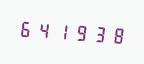eight: (108, 22, 125, 47)
four: (35, 17, 52, 42)
nine: (72, 20, 89, 45)
one: (54, 18, 71, 43)
six: (17, 16, 34, 41)
three: (90, 21, 107, 46)
